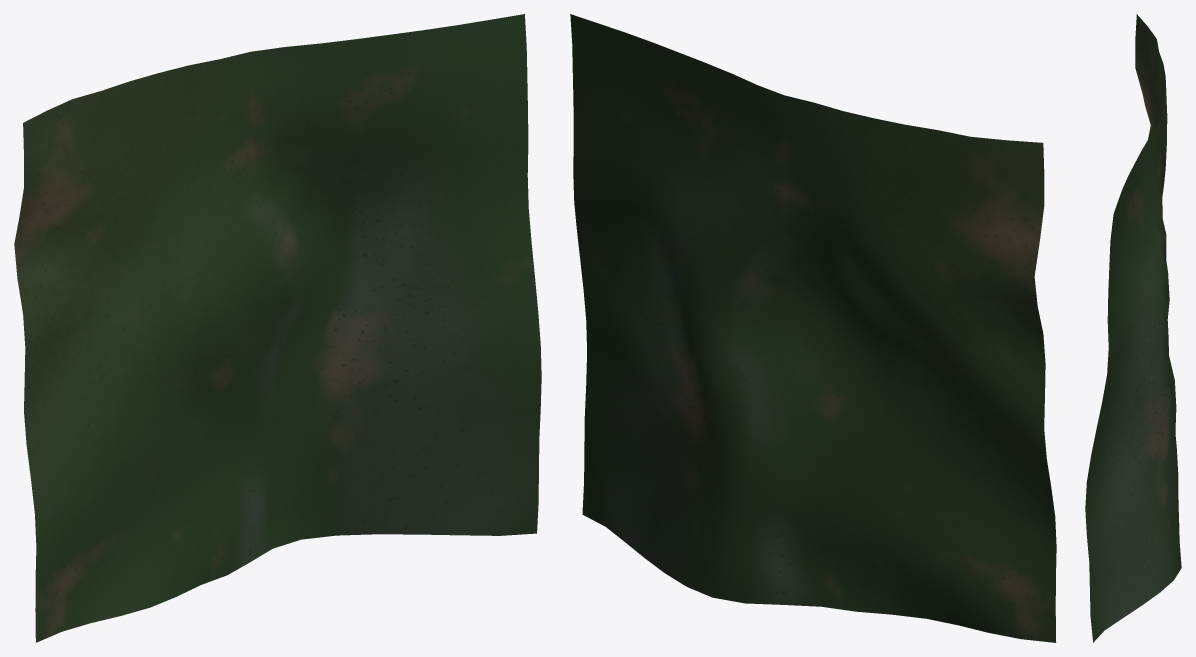
Rendered from terrain_far_05_01.obj.
The picture shows the model from 3 angles, left to right: view 1: azimuth 30°, elevation 25°; view 2: azimuth 150°, elevation 25°; view 3: azimuth 270°, elevation 25°; orthographic projection. The views are drawn at different scales.
Parts seen in each view (by area): view 1: terrain_far_05_01; view 2: terrain_far_05_01; view 3: terrain_far_05_01.
Boxes of the visible parts, x1,y1,x2,y2 form: terrain_far_05_01: (14, 14, 541, 642); terrain_far_05_01: (570, 14, 1056, 642); terrain_far_05_01: (1085, 14, 1181, 642).
Size of the model in its own units: 640 by 640 by 130.
Materials: 1 (1 with a texture image).
